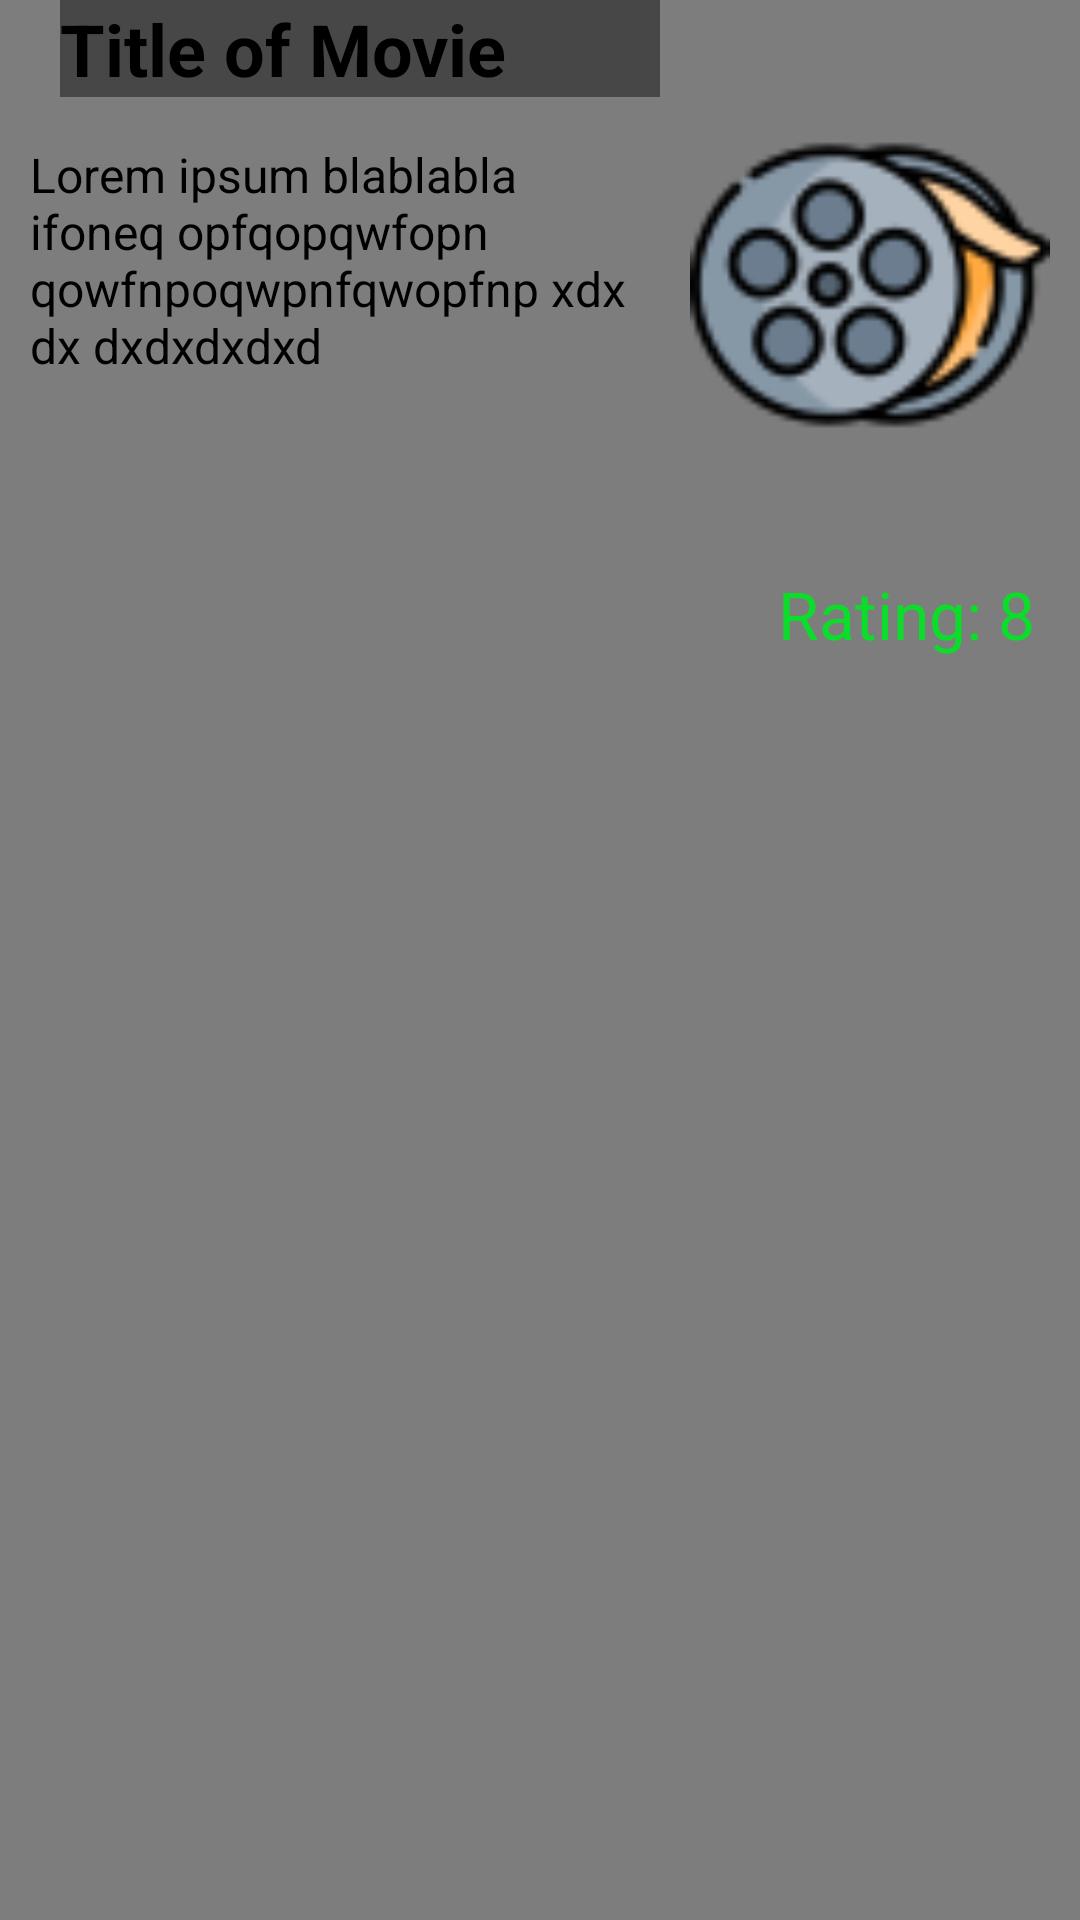

Icon bounding boxes for this 1080w x 1920h phone screenshot, format (x1, y1, x2, y2):
film roll: (690, 143, 1050, 427)
